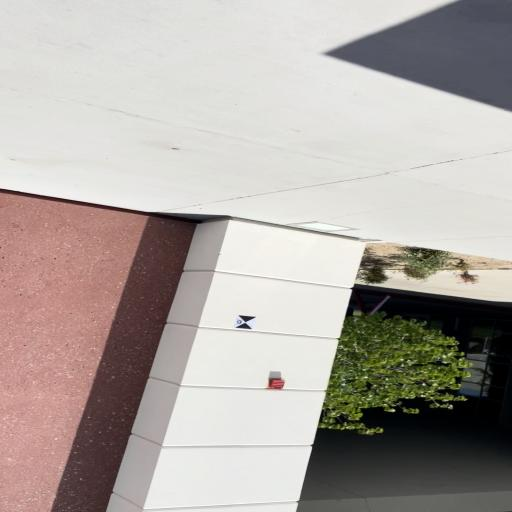target6: (230, 315, 256, 330)
